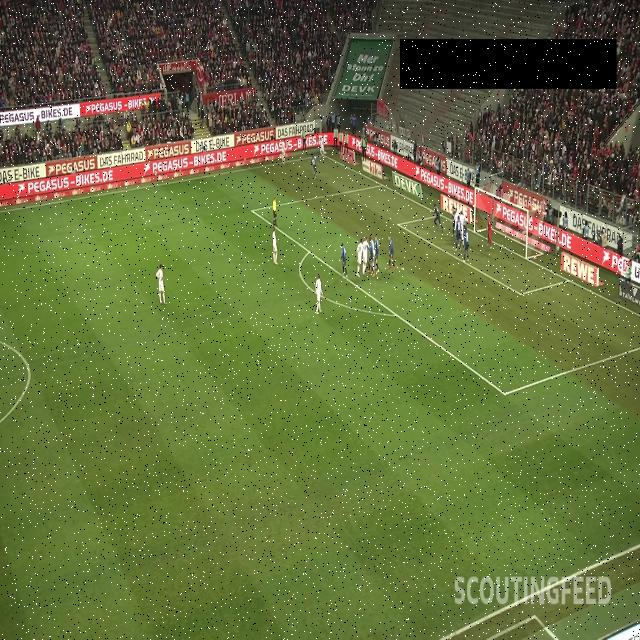GoalKeeper: (486, 214, 493, 250)
Referee: (272, 196, 278, 230)
TEAM 1: (432, 203, 444, 234), (387, 234, 397, 271), (339, 242, 348, 278), (366, 239, 374, 277), (454, 214, 462, 252), (373, 235, 380, 274), (462, 228, 470, 262), (452, 206, 458, 238), (311, 154, 318, 181), (461, 219, 467, 240)
TEAM 2: (156, 263, 168, 305), (315, 275, 324, 315), (356, 239, 364, 278), (272, 227, 280, 265), (368, 236, 376, 274), (363, 237, 371, 274), (458, 210, 466, 246), (453, 207, 460, 240), (316, 136, 326, 159), (281, 138, 286, 164)
